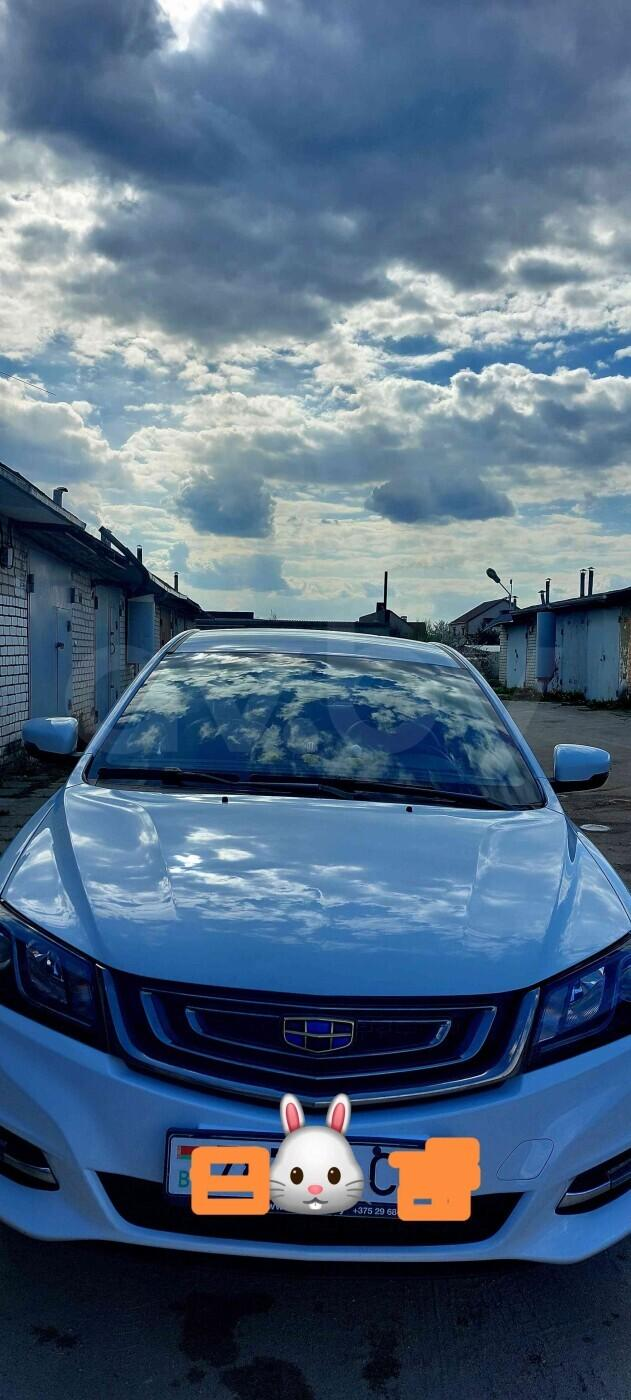Emgrand_2019-2021: (0, 628, 630, 1265)
